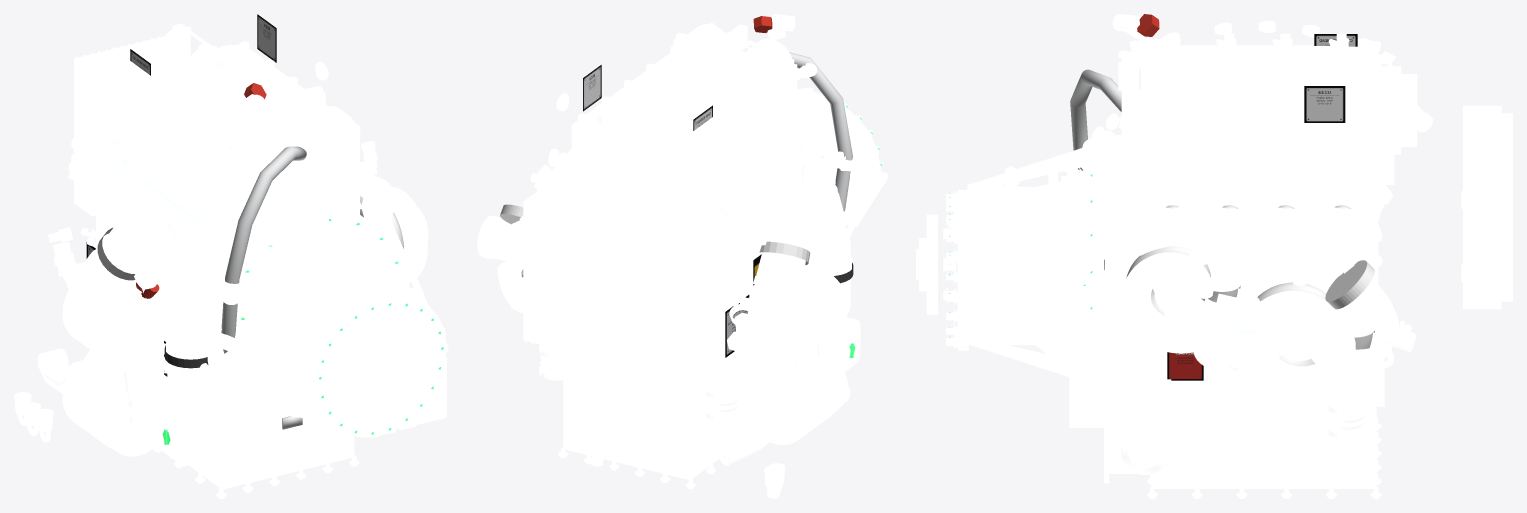
The model's file is vrde_jayem_2_2l.glb.
3 renders of one model, left to right at view 1: azimuth 30°, elevation 25°; view 2: azimuth 150°, elevation 25°; view 3: azimuth 270°, elevation 25°, orthographic. The views are drawn at different scales.
Visible parts, largest first — view 1: Gearbox_M_CastAluminium_0.001, Timing_Cover_Front_M_CastAluminium_0, Gearbox_FrontCover_M_CastAluminium_0, Valve_Cover_M_PlasticBlack_0.001, Generator_1_M_CastAluminium_0.001, Oil_Sump_M_CastAluminium_0.001, Generator_2_M_CastAluminium_0, Intermediate_Bellhousing_M_CastAluminium_0, Prop_Flange_M_Steel_0.001, Intake_Manifold_M_CastAluminium_0.001, Gearbox_Ribs_M_CastAluminium_0, Crankcase_Breather_Hose_M_BraidedSilver_0 (+34 smaller); view 2: Engine_Block_M_CastAluminium_0.001, Oil_Sump_M_CastAluminium_0.001, ECU_Lane_A_M_MetalPaintedBlack_0.001, Valve_Cover_M_PlasticBlack_0.001, ECU_Lane_B_M_MetalPaintedBlack_0.001, HP_Fuel_Pump_M_SteelDark_0.001, Cylinder_Head_M_CastAluminium_0.001, Generator_1_M_CastAluminium_0.001, Generator_2_M_CastAluminium_0, Intercooler_M_CastAluminium_0.001, Intake_Manifold_M_CastAluminium_0.001, Oil_Filter_M_MetalPaintedBlack_0.001 (+33 smaller); view 3: Valve_Cover_M_PlasticBlack_0.001, Gearbox_M_CastAluminium_0.001, Oil_Sump_M_CastAluminium_0.001, Exhaust_Heat_Blanket_M_HeatShield_0, Cylinder_Head_M_CastAluminium_0.001, Turbo_LP_CompressorVolute_M_MachinedAlloy_0, Starter_M_MetalPaintedBlack_0.001, ECU_Lane_A_M_MetalPaintedBlack_0.001, Intermediate_Bellhousing_M_CastAluminium_0, Engine_Block_M_CastAluminium_0.001, Turbo_HP_CompressorVolute_M_MachinedAlloy_0, Gearbox_Ribs_M_CastAluminium_0 (+33 smaller).
Boxes of the visible parts, <box> form: Gearbox_M_CastAluminium_0.001: <box>220,224,431,431</box>; Timing_Cover_Front_M_CastAluminium_0: <box>236,106,359,226</box>; Gearbox_FrontCover_M_CastAluminium_0: <box>308,293,445,437</box>; Valve_Cover_M_PlasticBlack_0.001: <box>132,41,327,191</box>; Generator_1_M_CastAluminium_0.001: <box>62,278,167,372</box>; Oil_Sump_M_CastAluminium_0.001: <box>163,370,354,488</box>; Generator_2_M_CastAluminium_0: <box>62,360,168,456</box>; Intermediate_Bellhousing_M_CastAluminium_0: <box>198,204,409,446</box>; Prop_Flange_M_Steel_0.001: <box>348,324,435,415</box>; Intake_Manifold_M_CastAluminium_0.001: <box>94,164,229,286</box>; Gearbox_Ribs_M_CastAluminium_0: <box>244,203,427,425</box>; Crankcase_Breather_Hose_M_BraidedSilver_0: <box>221,146,306,353</box>; Engine_Block_M_CastAluminium_0.001: <box>561,191,817,393</box>; Oil_Sump_M_CastAluminium_0.001: <box>553,358,754,479</box>; ECU_Lane_A_M_MetalPaintedBlack_0.001: <box>506,189,634,296</box>; Valve_Cover_M_PlasticBlack_0.001: <box>571,46,789,172</box>; ECU_Lane_B_M_MetalPaintedBlack_0.001: <box>506,270,634,362</box>; HP_Fuel_Pump_M_SteelDark_0.001: <box>626,147,711,234</box>; Cylinder_Head_M_CastAluminium_0.001: <box>565,117,795,263</box>; Generator_1_M_CastAluminium_0.001: <box>763,266,847,364</box>; Generator_2_M_CastAluminium_0: <box>754,349,848,445</box>; Intercooler_M_CastAluminium_0.001: <box>574,141,651,207</box>; Intake_Manifold_M_CastAluminium_0.001: <box>696,157,827,258</box>; Oil_Filter_M_MetalPaintedBlack_0.001: <box>751,213,811,293</box>; Valve_Cover_M_PlasticBlack_0.001: <box>1141,71,1373,167</box>; Gearbox_M_CastAluminium_0.001: <box>967,170,1097,360</box>; Oil_Sump_M_CastAluminium_0.001: <box>1151,341,1384,488</box>; Exhaust_Heat_Blanket_M_HeatShield_0: <box>1137,205,1362,257</box>; Cylinder_Head_M_CastAluminium_0.001: <box>1139,108,1374,236</box>; Turbo_LP_CompressorVolute_M_MachinedAlloy_0: <box>1238,290,1380,406</box>; Starter_M_MetalPaintedBlack_0.001: <box>1060,349,1189,427</box>; ECU_Lane_A_M_MetalPaintedBlack_0.001: <box>1461,105,1512,235</box>; Intermediate_Bellhousing_M_CastAluminium_0: <box>1097,151,1138,358</box>; Engine_Block_M_CastAluminium_0.001: <box>1137,185,1378,394</box>; Turbo_HP_CompressorVolute_M_MachinedAlloy_0: <box>1121,252,1246,353</box>; Gearbox_Ribs_M_CastAluminium_0: <box>968,148,1095,376</box>.
Bounding box in the file's own units: 58 × 68.2 × 84.85.
Materials: 24 (1 with a texture image).
